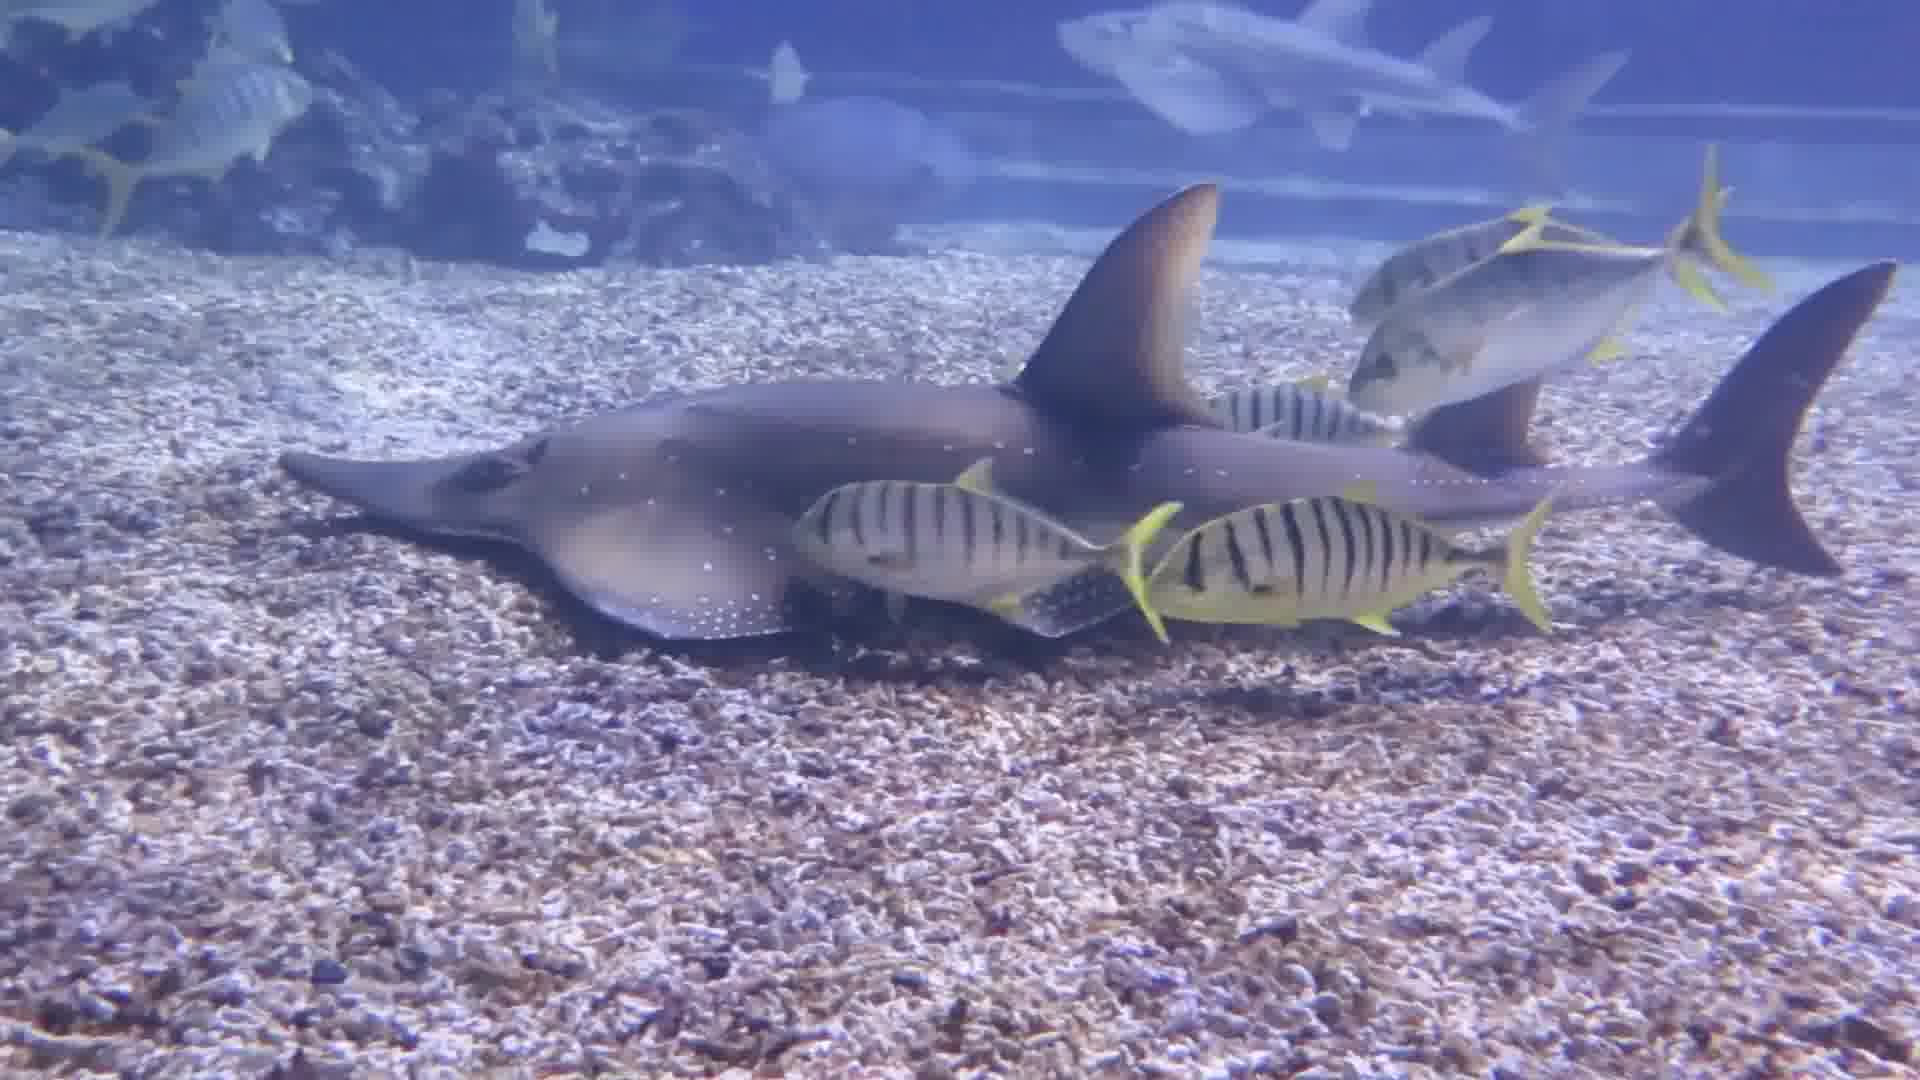Rhychobatus djiddensis: (253, 186, 1902, 665)
